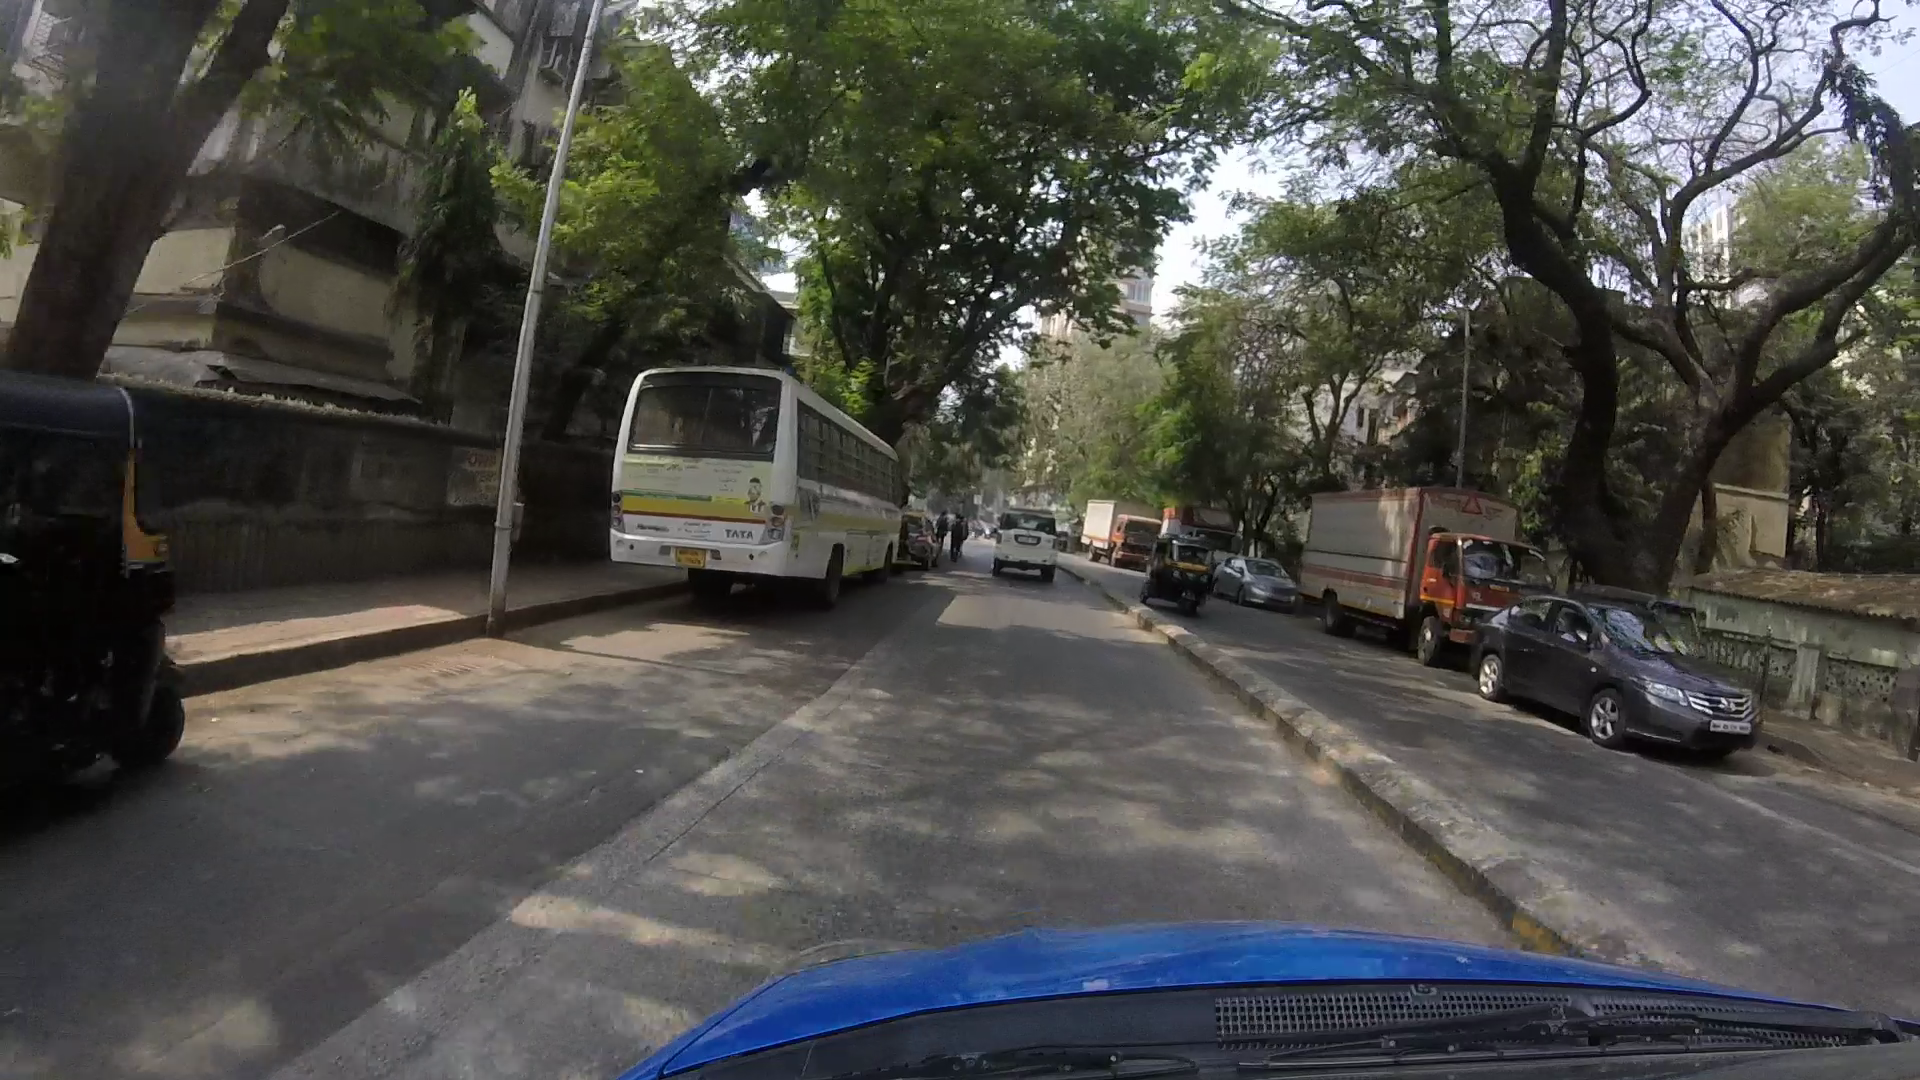bus: (583, 318, 919, 596)
car: (1474, 568, 1779, 775)
rickshaw: (1, 342, 194, 791), (1145, 512, 1218, 630)
truck: (1292, 473, 1549, 644)
tv: (981, 475, 1067, 593)
